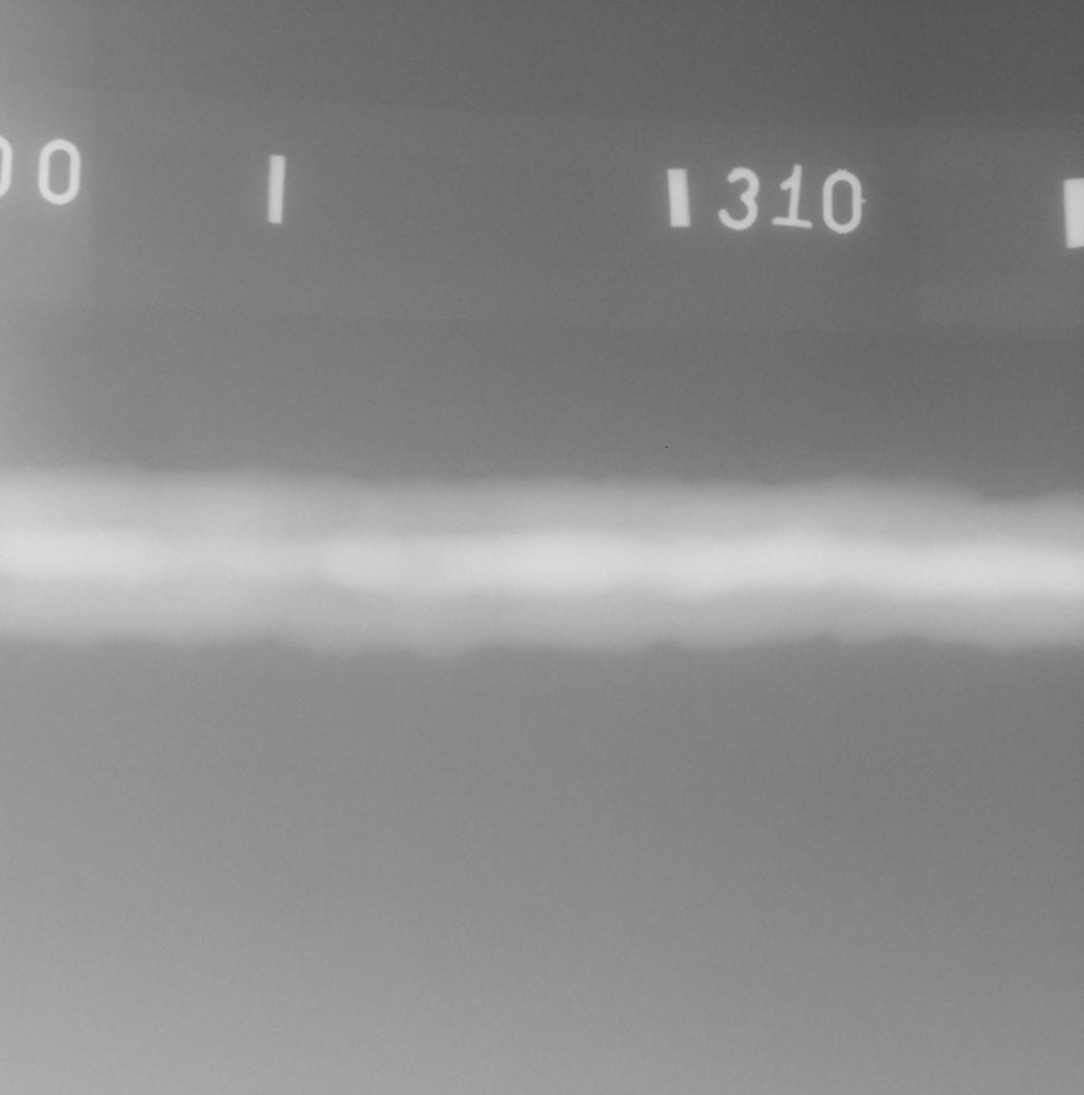Inclusion: (618, 520, 634, 528)
